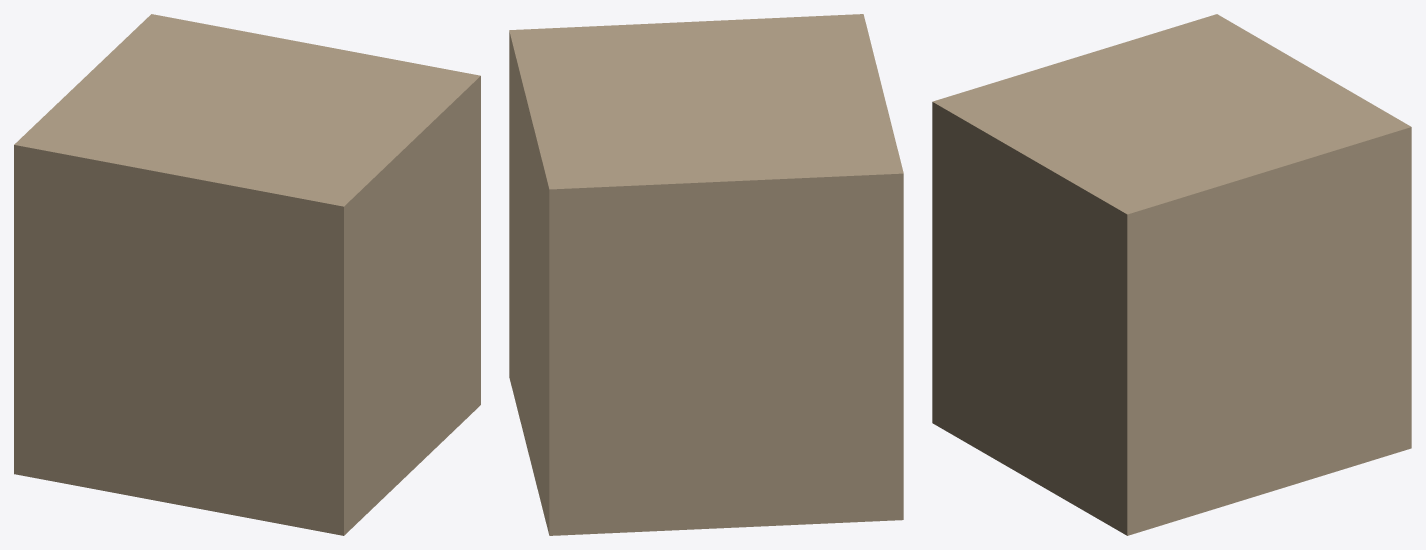
File: bld_100478194.dae
The picture shows the model from 3 angles, left to right: view 1: azimuth 30°, elevation 25°; view 2: azimuth 150°, elevation 25°; view 3: azimuth 270°, elevation 25°; orthographic projection. The views are drawn at different scales.
Parts seen in each view (by area): view 1: bld_100478194; view 2: bld_100478194; view 3: bld_100478194.
Part boxes in pixels (x1,y1,x2,y2): bld_100478194: [14, 14, 480, 535]; bld_100478194: [509, 14, 903, 535]; bld_100478194: [932, 14, 1411, 535].
Size of the model in its own units: 10.7 by 10.81 by 8.
